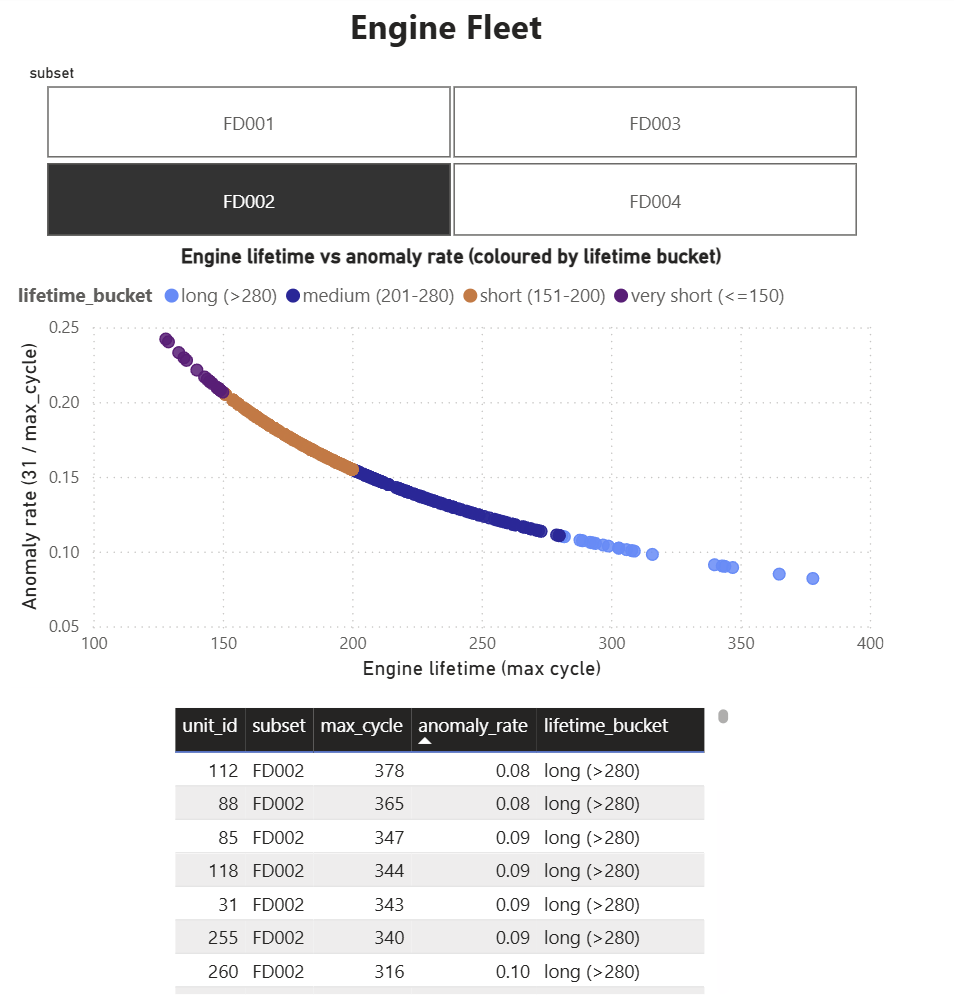

Layout of this report page (visuals, bound fields, positions):
{"tool":"powerbi","page":{"name":"Engine Fleet","canvas":[1280,720],"ordinal":1},"visuals":[{"type":"textbox","box":[10.4,0,629.6,50],"z":0},{"type":"slicer","fields":{"Values":["subsets.subset"]},"box":[10.4,43.6,630.1,135],"z":1000},{"type":"scatterChart","title":"Engine lifetime vs anomaly rate (coloured by lifetime bucket)","fields":{"X":["engines.max_cycle"],"Category":["engines.EngineKey"],"Y":["engines.anomaly_rate"],"Series":["engines.lifetime_bucket"]},"box":[10.2,178.2,630.3,316.5],"z":2000},{"type":"tableEx","fields":{"Values":["engines.unit_id","engines.subset","engines.max_cycle","engines.anomaly_rate","engines.lifetime_bucket"]},"box":[121.6,504.9,408.4,215.3],"z":3000}]}

Visuals, with their boxes on the page's 1280x720 design canvas (x1, y1, x2, y2). These are canvas units, not pixel positions in the 954x997 screenshot, which may show the page scaled, cropped or inside an application window:
textbox: pyautogui.locateOnScreen(10, 0, 640, 50)
slicer - subsets.subset: pyautogui.locateOnScreen(10, 44, 640, 179)
"Engine lifetime vs anomaly rate (coloured by lifetime bucket)" scatterChart: pyautogui.locateOnScreen(10, 178, 640, 495)
tableEx - engines.unit_id x engines.subset: pyautogui.locateOnScreen(122, 505, 530, 720)
